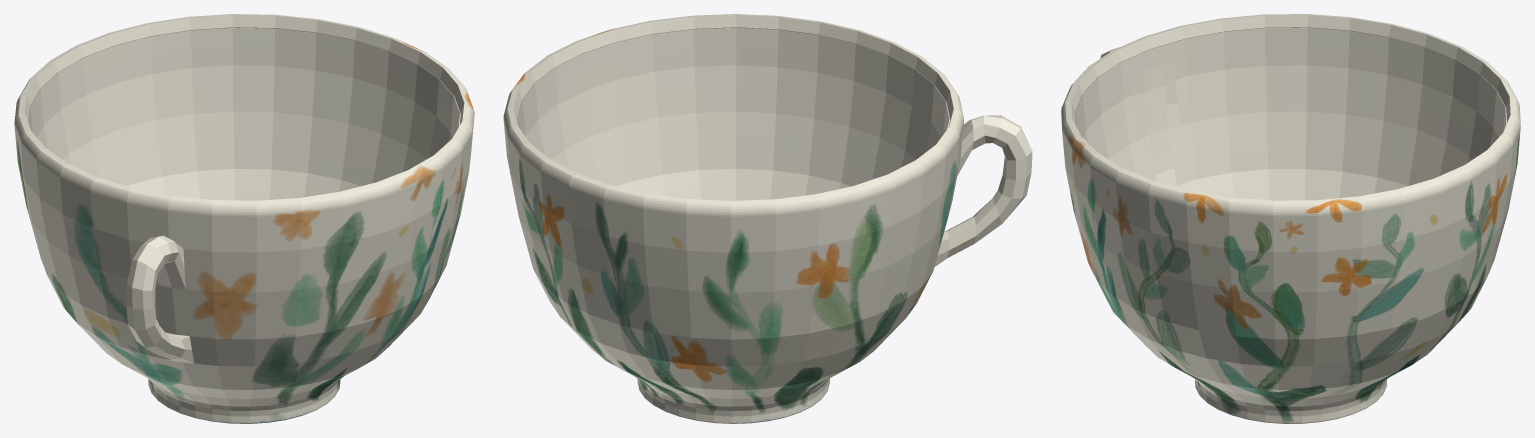
File: deskMug.glb
3 views of the same model, side by side, from view 1: azimuth 30°, elevation 25°; view 2: azimuth 150°, elevation 25°; view 3: azimuth 270°, elevation 25° (orthographic).
Visible parts, largest first — view 1: TeaMug; view 2: TeaMug; view 3: TeaMug.
Part boxes in pixels (bbox=[...]): TeaMug: bbox=[14, 14, 474, 423]; TeaMug: bbox=[503, 14, 1032, 423]; TeaMug: bbox=[1061, 14, 1520, 423].
Size of the model in its own units: 0.2416 by 0.1575 by 0.2376.
Materials: 5 (1 with a texture image).
